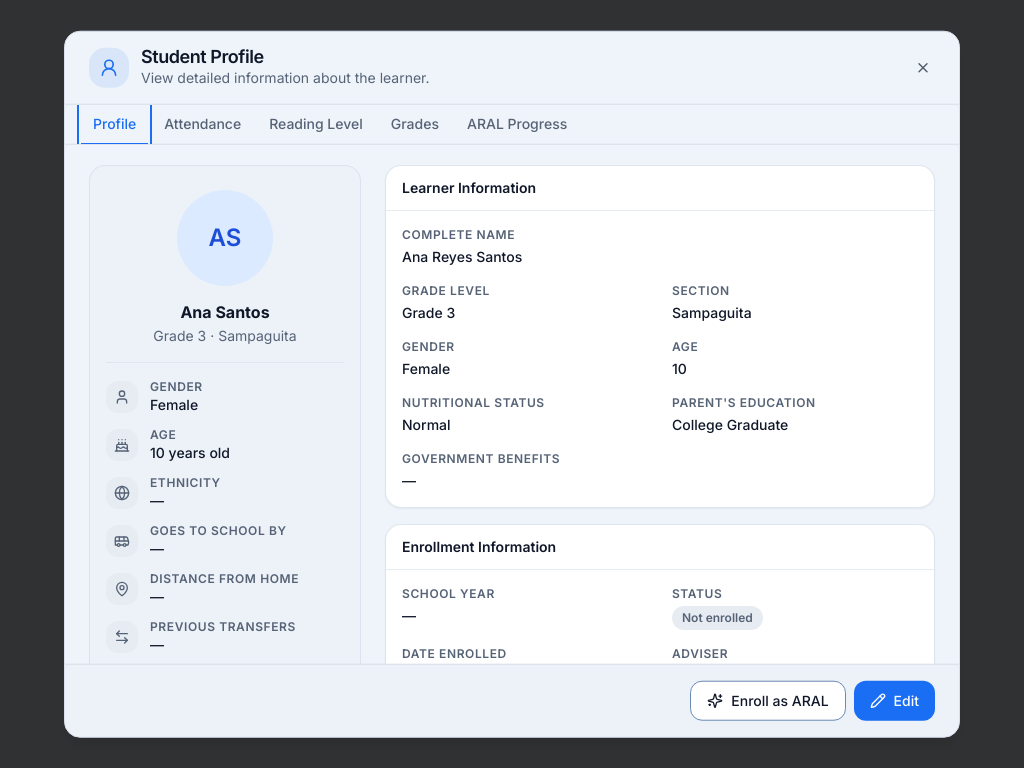
Test case: LearnerProfileModal — footer actions › asks who will tutor before it enrolls, instead of confirming blindly
Click the button "Enroll as ARAL" at (768, 700), box [690,680,846,720]
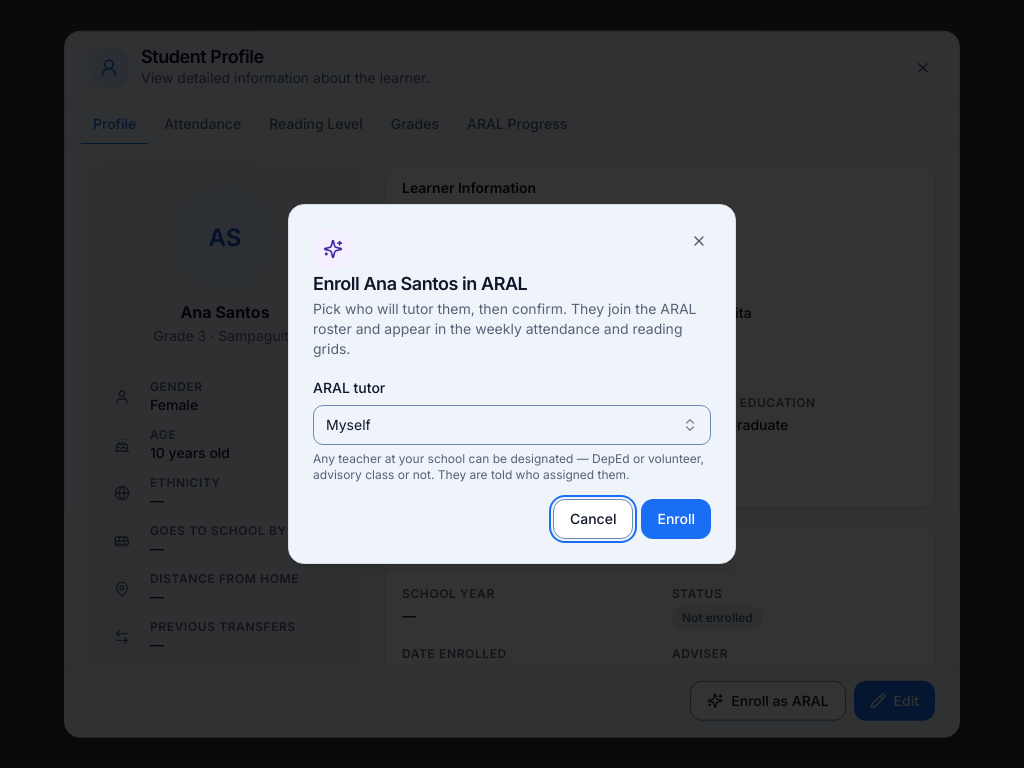
Now the dropdown reads "Myself", box [313,405,711,445]
Click the button "Enroll" at (676, 519), box [642,499,711,539]
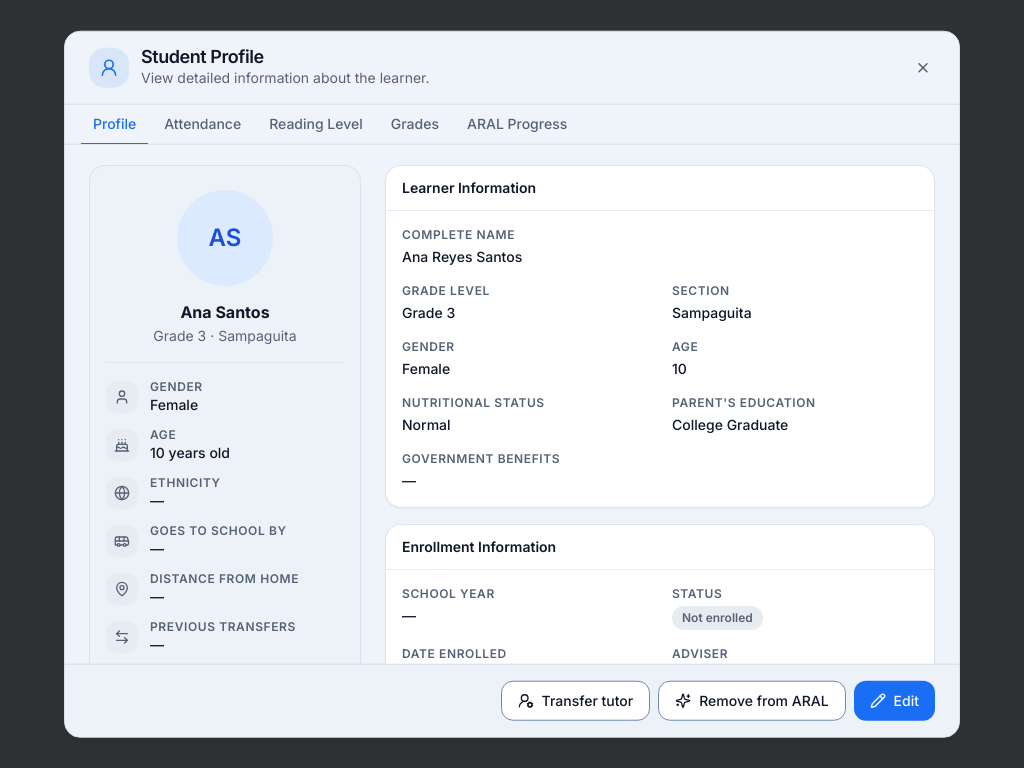
Now the button "Remove from ARAL" is shown, box [658,680,846,720]
